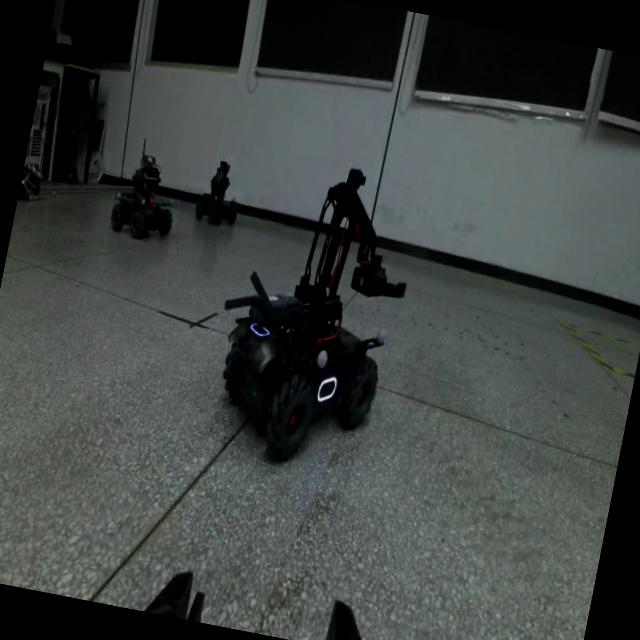ep: (197, 146, 430, 482)
s1: (110, 126, 191, 244), (194, 153, 248, 230)
